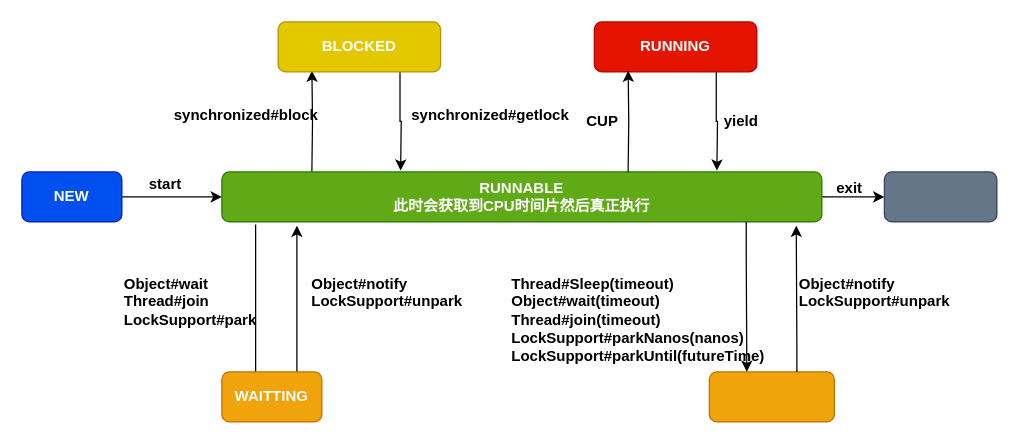
Image size: 1019x444. Some labels were removed from this diagram. Here are the shapes that lost their labels. From the top down, the box of each, then its label:
(883, 171, 997, 222): TERMINATED
(708, 371, 834, 422): TIMED_WAITTING
